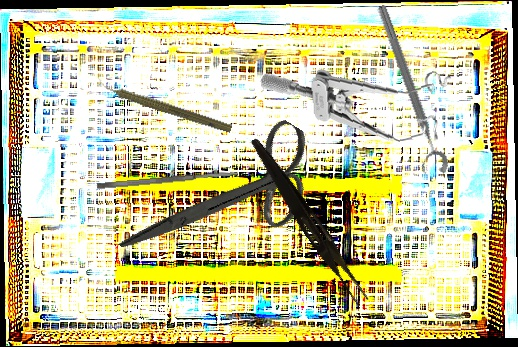Dressing Forceps: (242, 135, 375, 308)
Fixation Ring: (363, 2, 452, 181)
Handpiece: (93, 75, 235, 136)
Iris Scissors: (117, 79, 335, 316)
Spatula Surgical: (96, 169, 239, 191)
Speculum: (258, 56, 459, 157)
